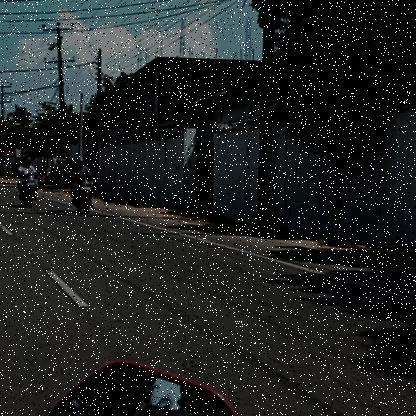motorcycle: (69, 174, 96, 216), (15, 172, 41, 209)
